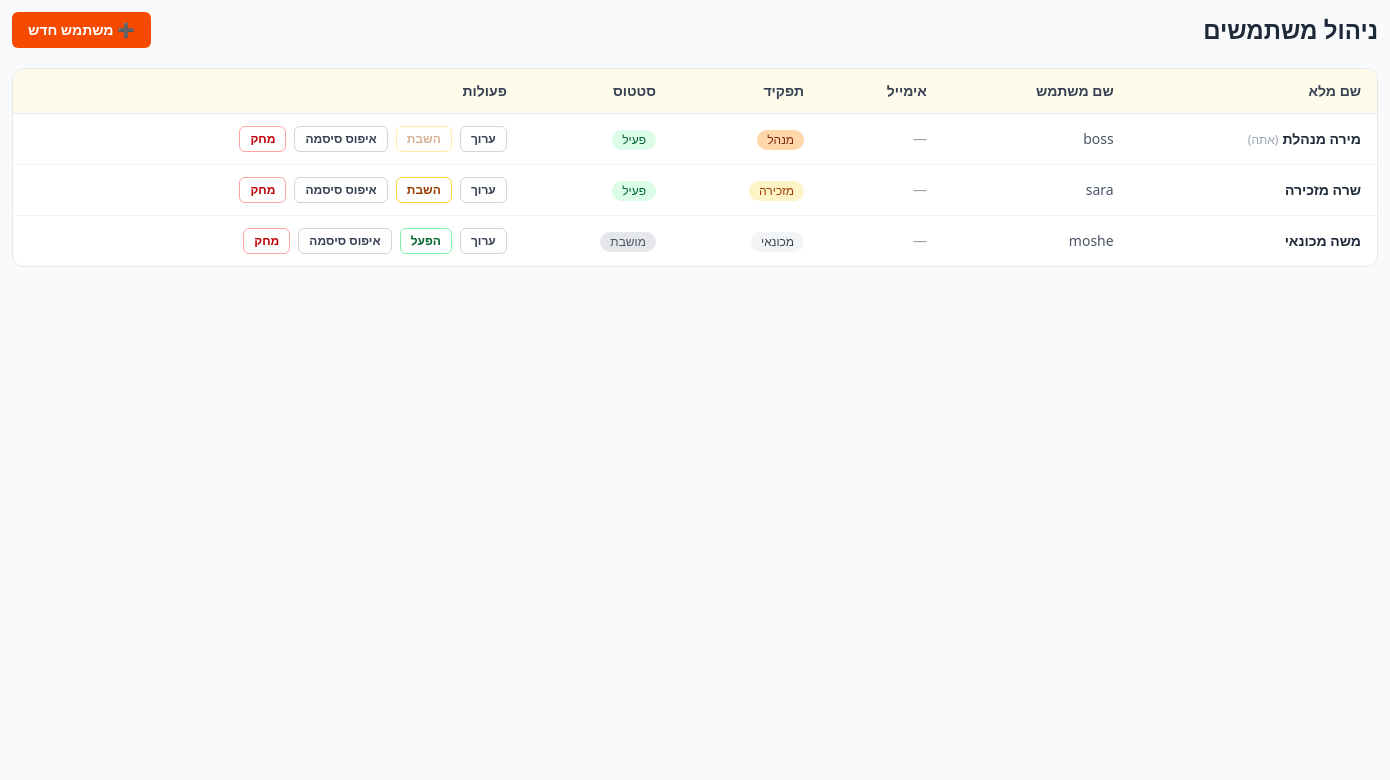
Scenario: UsersPage — create user › creates a user and refetches the list
This screenshot has width=1390, height=780.
expect the table named "טבלת משתמשים" is shown: met, box [13,69,1377,266]
Step 1. Click the button "➕ משתמש חדש" → [81, 30], box [12,12,151,48]
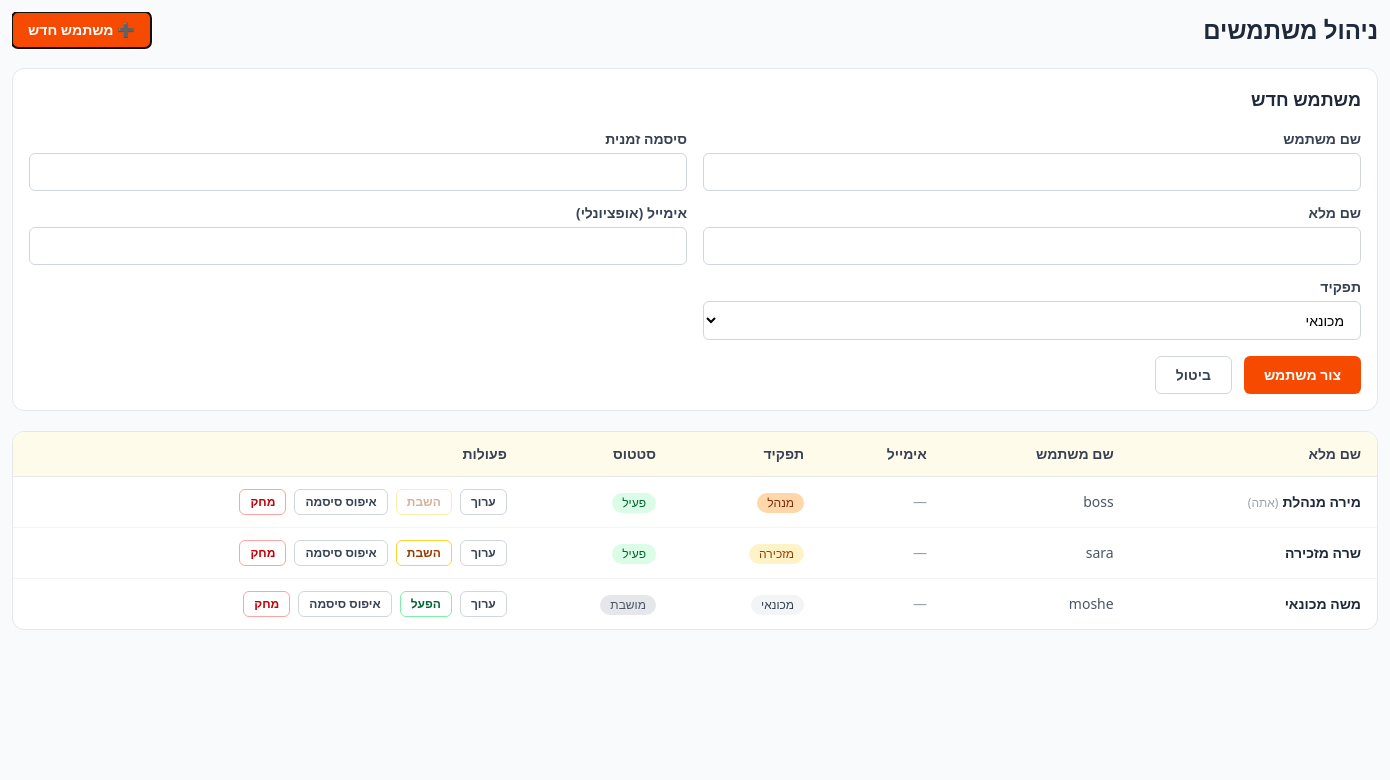
Step 2. Type "newmech" into the field labelled "שם משתמש" → [1032, 172], box [703,153,1361,191]
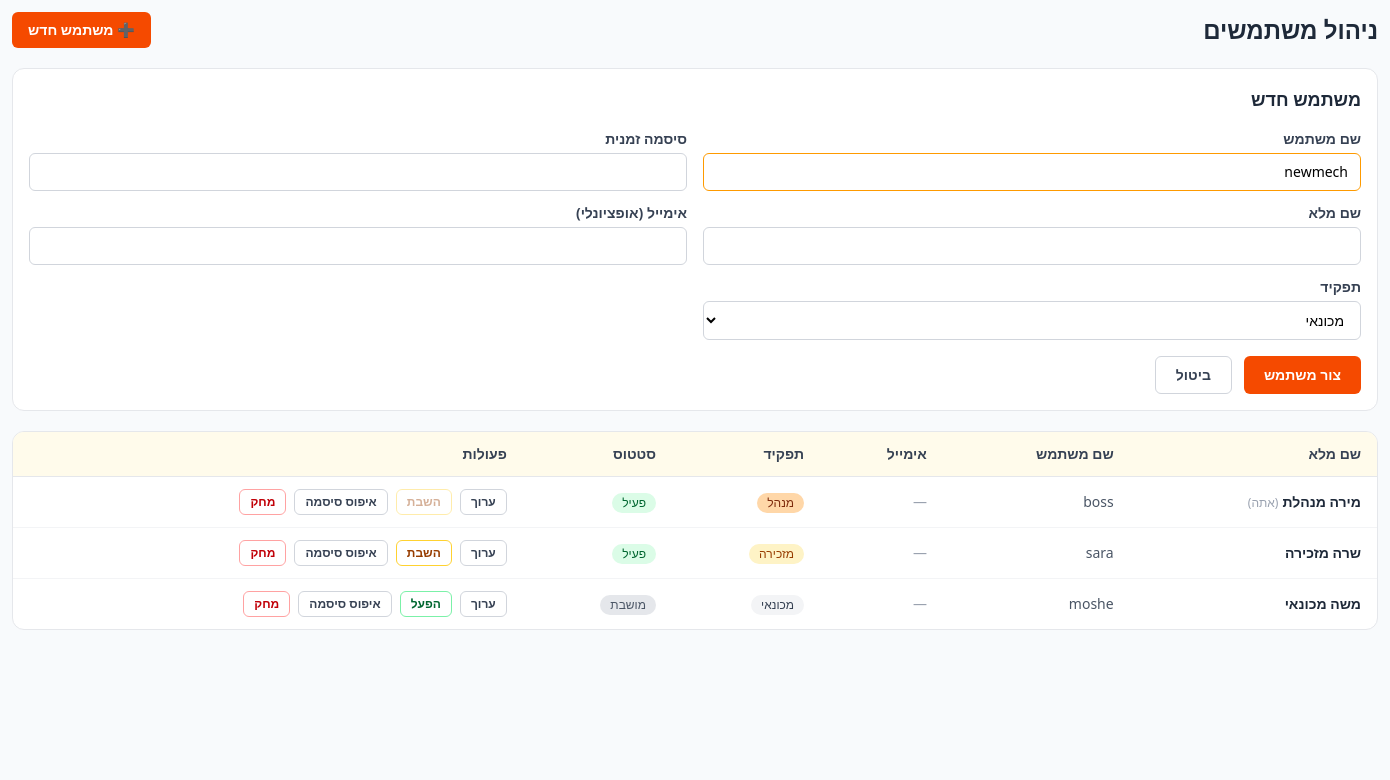
Step 3. Type "secret123" into the password field labelled "סיסמה זמנית" → [358, 172], box [29,153,687,191]
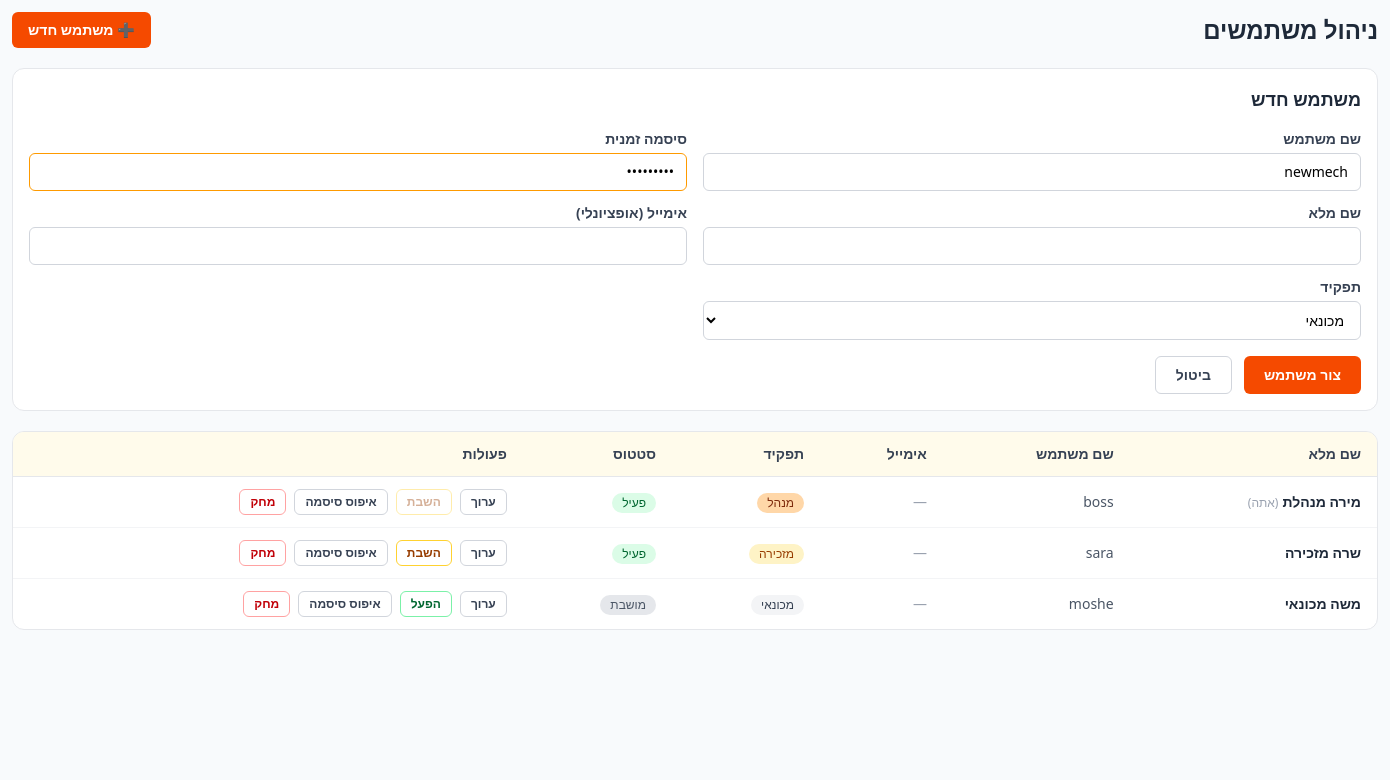
Step 4. Type "מכונאי חדש" into the field labelled "שם מלא" → [1032, 246], box [703,227,1361,265]
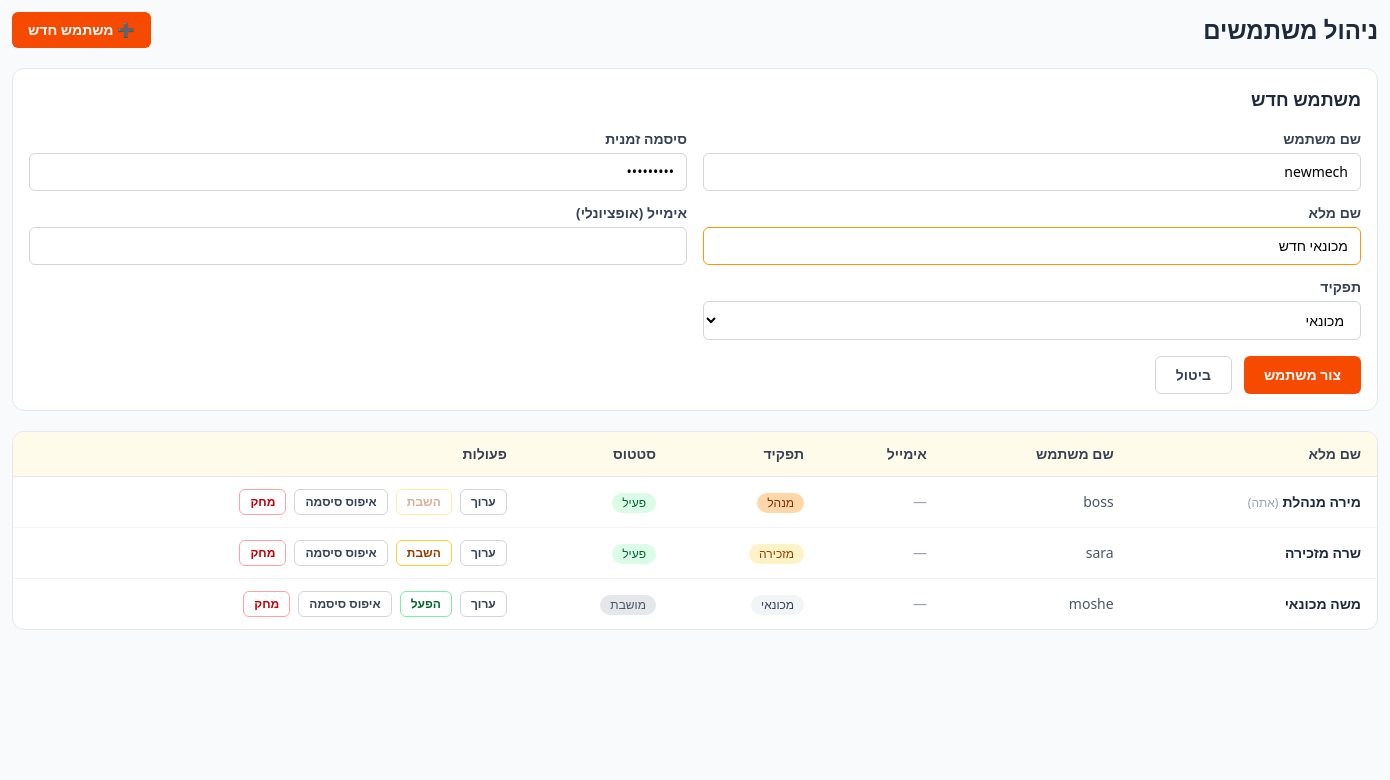
Step 5. Select "מכונאי" in the dropdown labelled "תפקיד" → [1032, 320], box [703,301,1361,340]
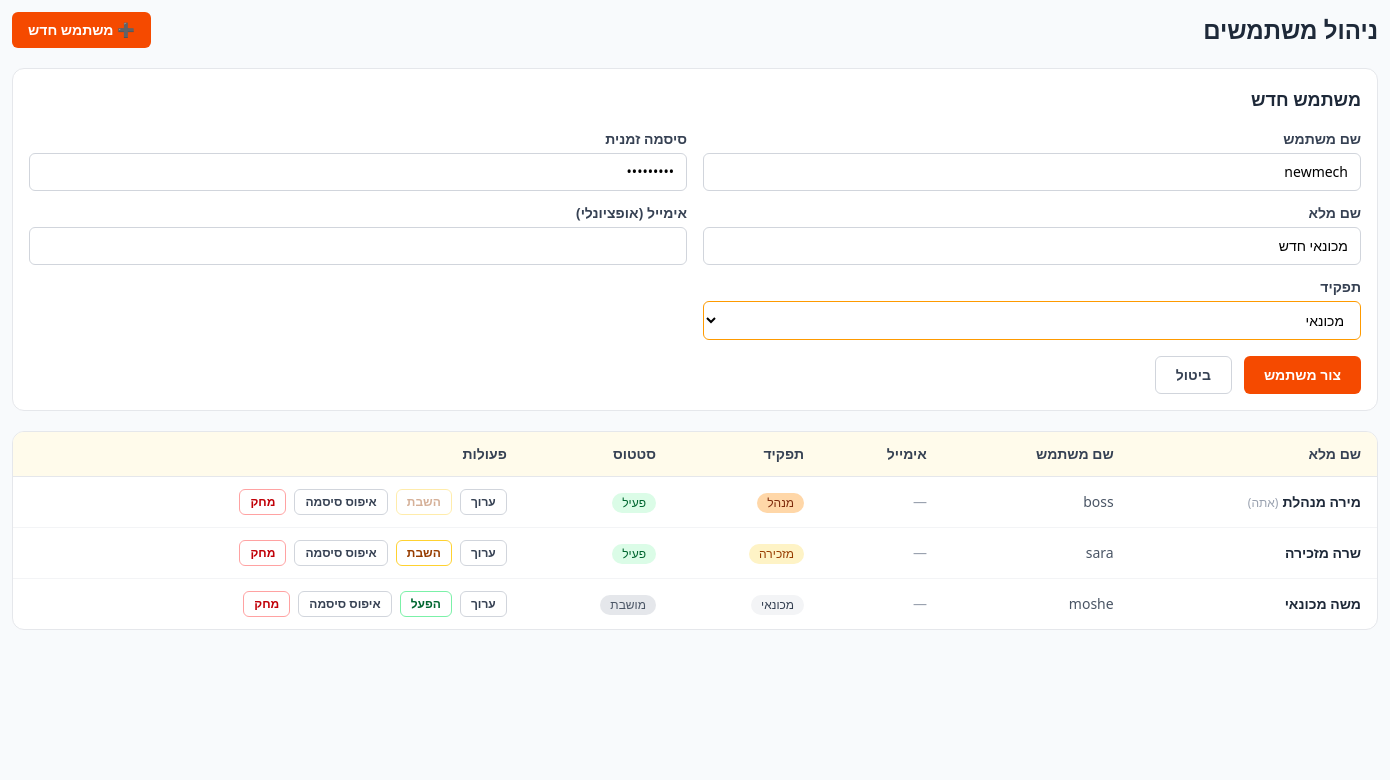
Step 6. Click the button "צור משתמש" → [1302, 375], box [1244,356,1361,394]
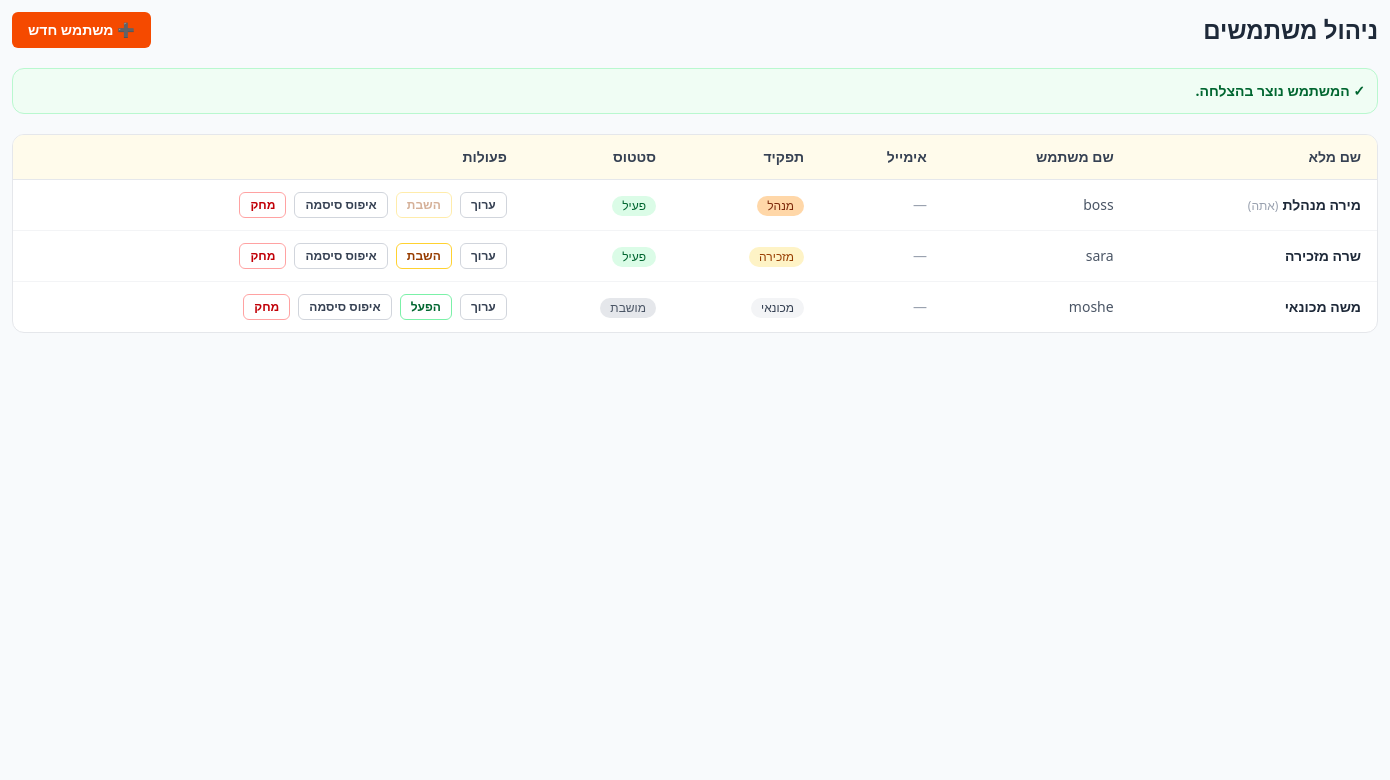
expect the text "✓ המשתמש נוצר בהצלחה." is shown: met, box [12,68,1378,114]
